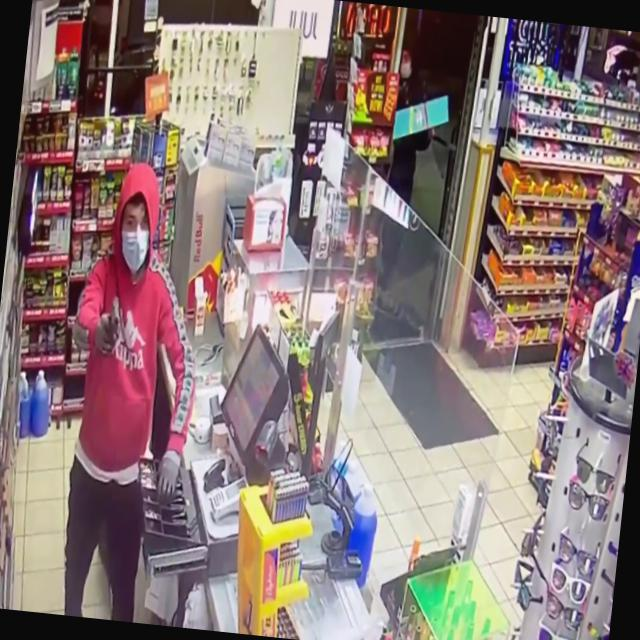handgun: (100, 294, 136, 358)
